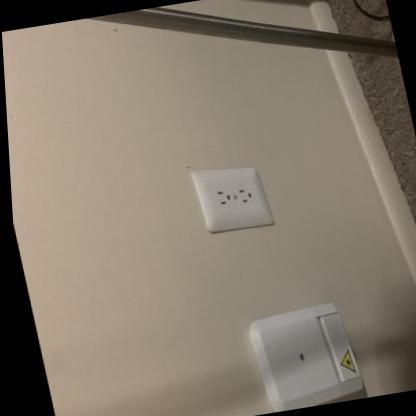OUTLET: (189, 159, 276, 236)
